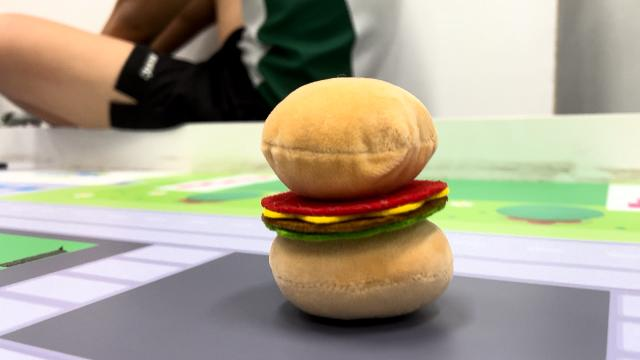burger: (253, 72, 462, 322)
